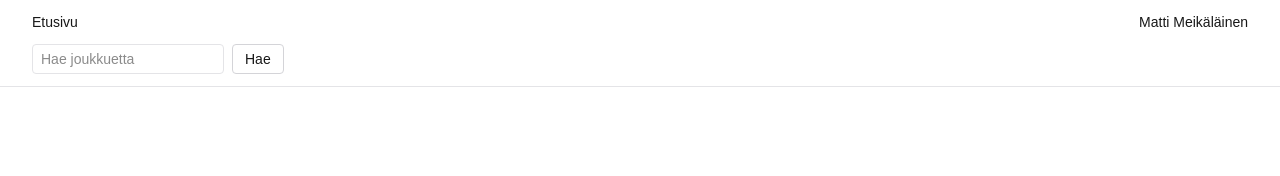
SiteHeader › shows the signed-in reader's name in the header
The width and height of the screenshot is (1280, 176).
Note: `Kirjaudu ulos` lives in the account menu.
Click the button with aria-label "Tili: Matti Meikäläinen" at [1194, 22], box [1139,12,1248,32]
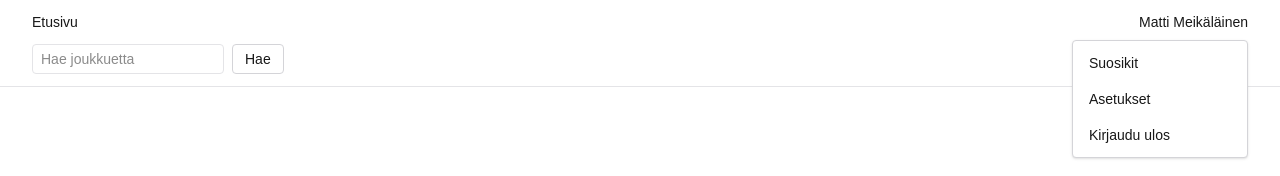
Result: the button "Kirjaudu ulos" is shown at [1073,117,1247,153]
